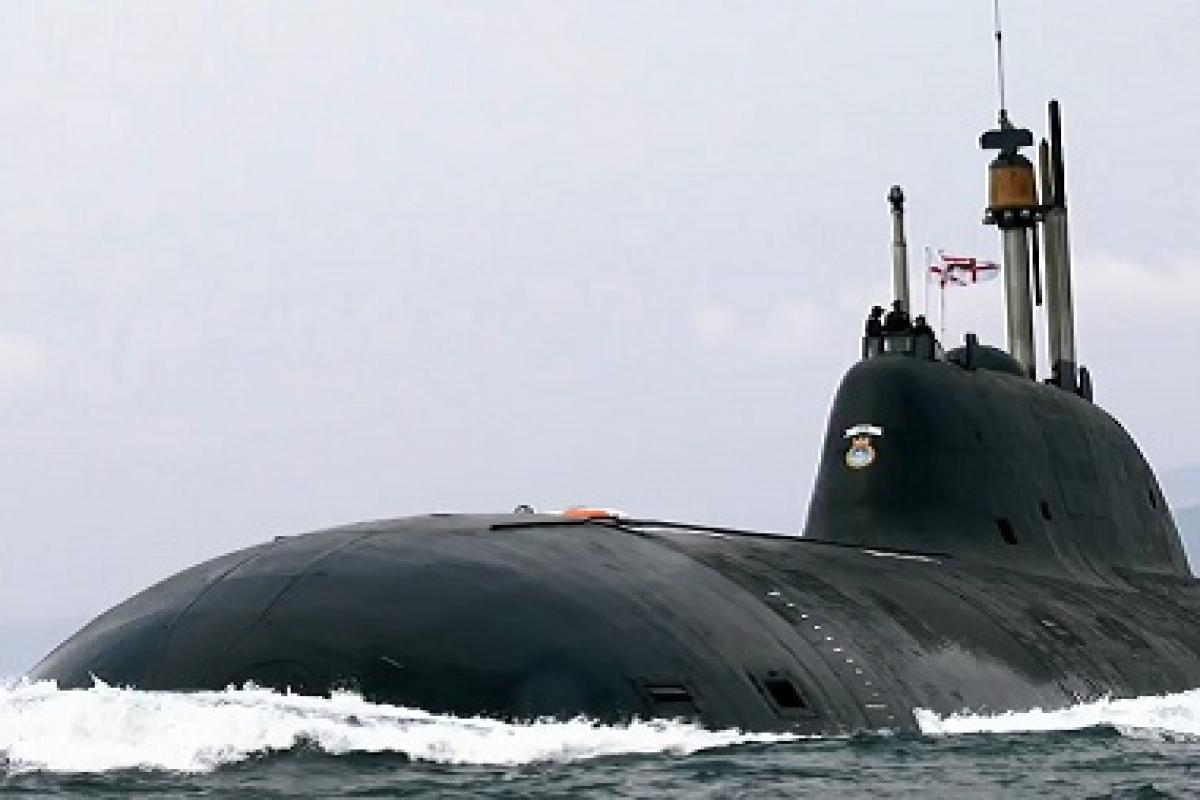Submarine: (60, 64, 1200, 800)
